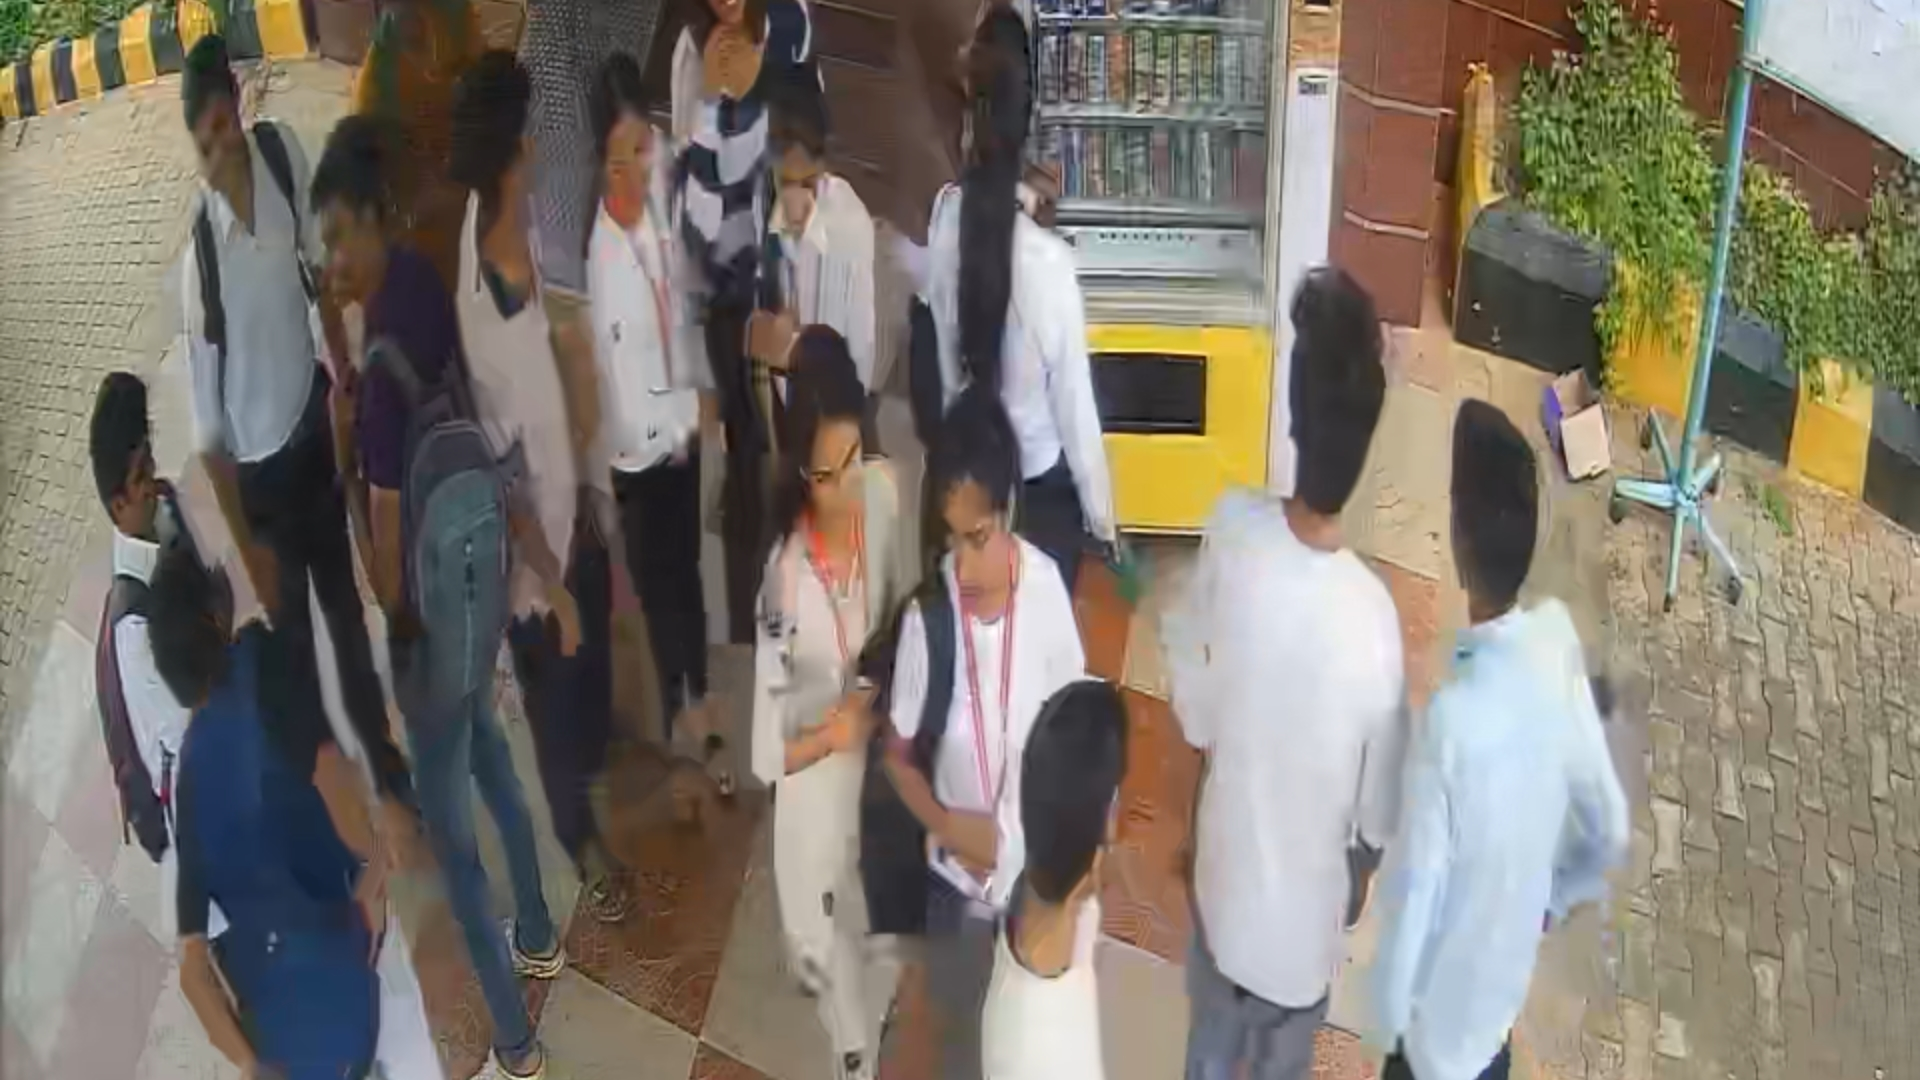not intruder: (891, 414, 1101, 1001), (744, 340, 926, 1001), (568, 80, 732, 811)
